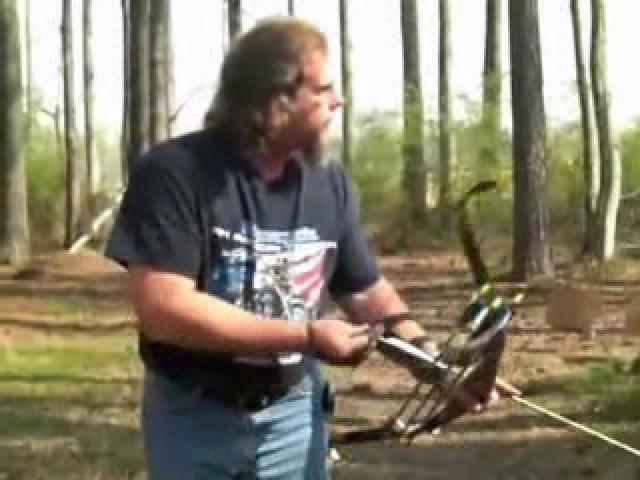I: (123, 15, 528, 443)
